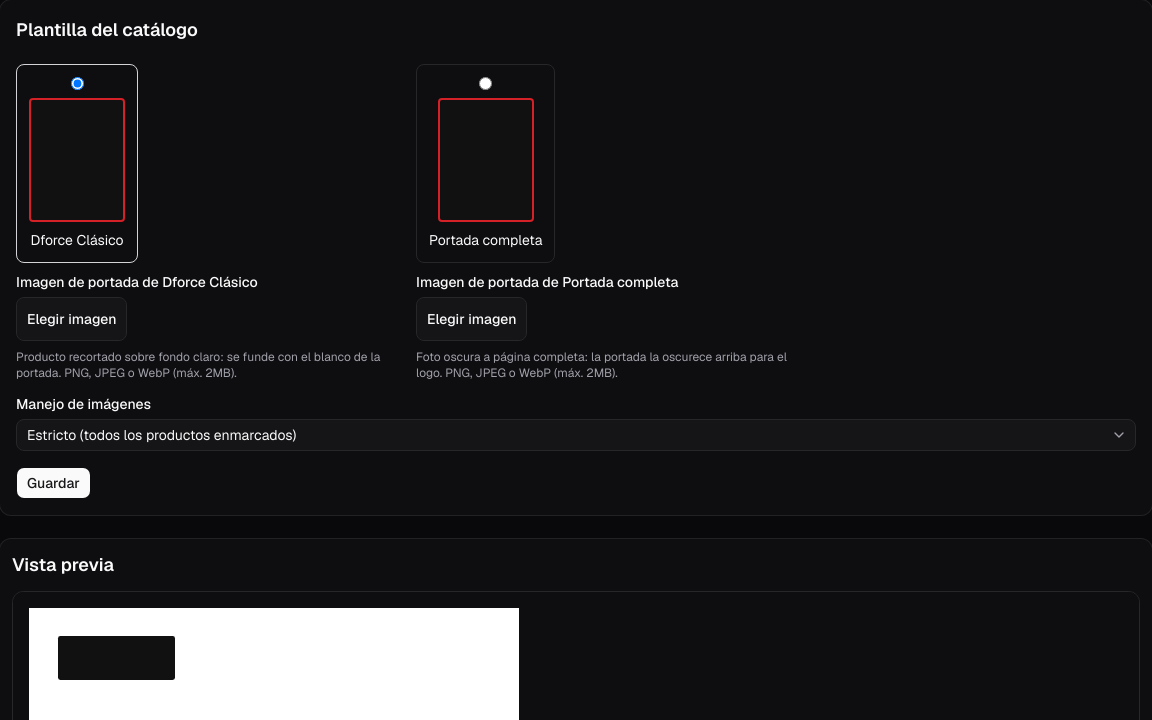
Test: TemplateConfigForm — gallery picker › shows the Spanish saved confirmation after a successful submit
Click the button "Guardar". click: (53, 483)
box: [16,467,91,499]
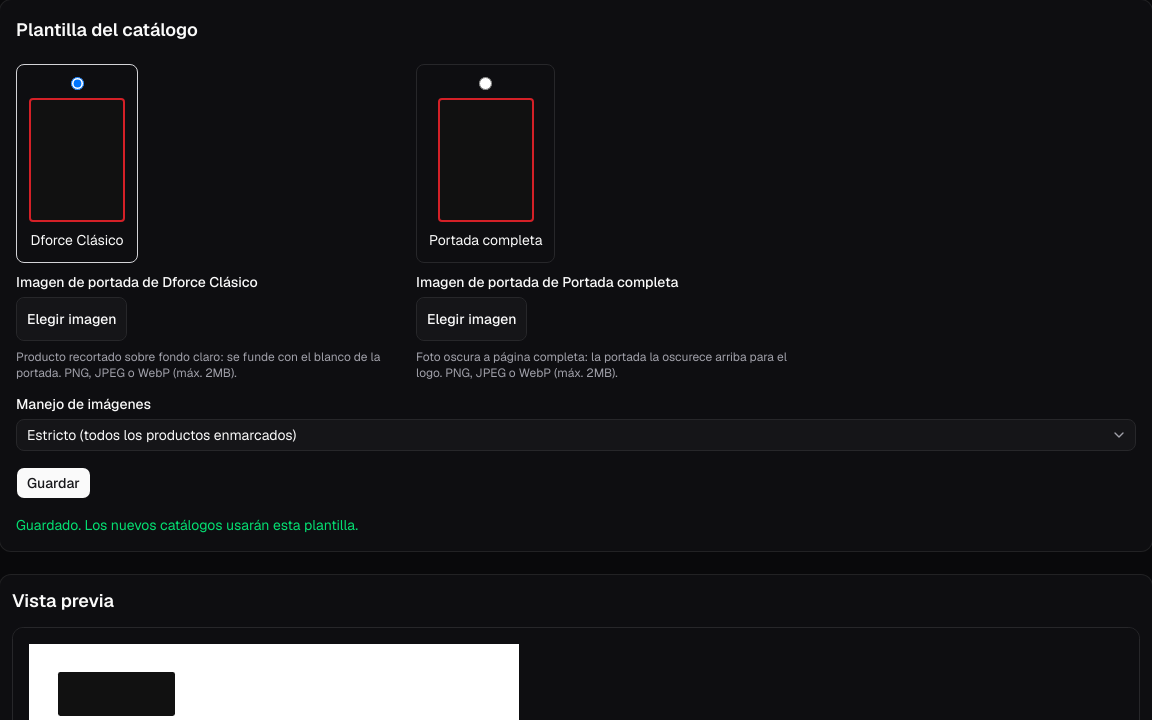
Check: the text "Guardado. Los nuevos catálogos usarán esta plantilla." is shown, box [16,516,358,534]
